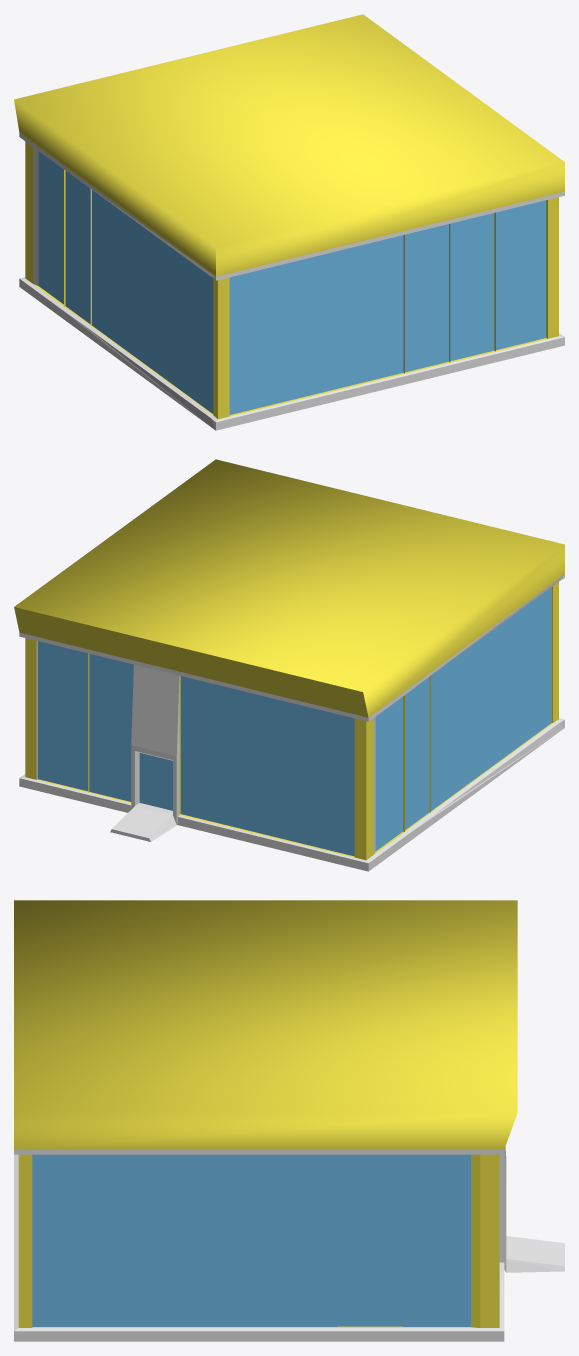
File: Shop8x8x4Yellow.fbx
3 renders of one model, top to bottom at view 1: azimuth 30°, elevation 25°; view 2: azimuth 150°, elevation 25°; view 3: azimuth 270°, elevation 25°, orthographic. The views are drawn at different scales.
Visible parts, largest first — view 1: Shop.001; view 2: Shop.001; view 3: Shop.001.
Part boxes in pixels (left/top/right/bottom): Shop.001: left=14, top=14, right=564, bottom=430; Shop.001: left=14, top=459, right=564, bottom=871; Shop.001: left=14, top=900, right=564, bottom=1341.
Bounding box in the file's own units: 7.96 × 4 × 8.72.
Materials: 1 (1 with a texture image).
